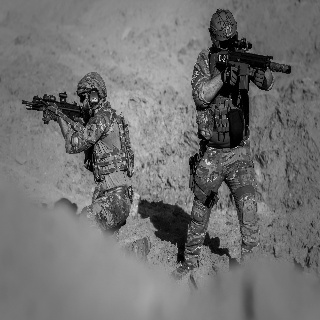rifle: (206, 37, 292, 97), (21, 90, 90, 125)
